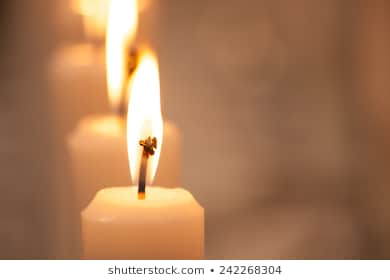Fire: (128, 54, 163, 185)
